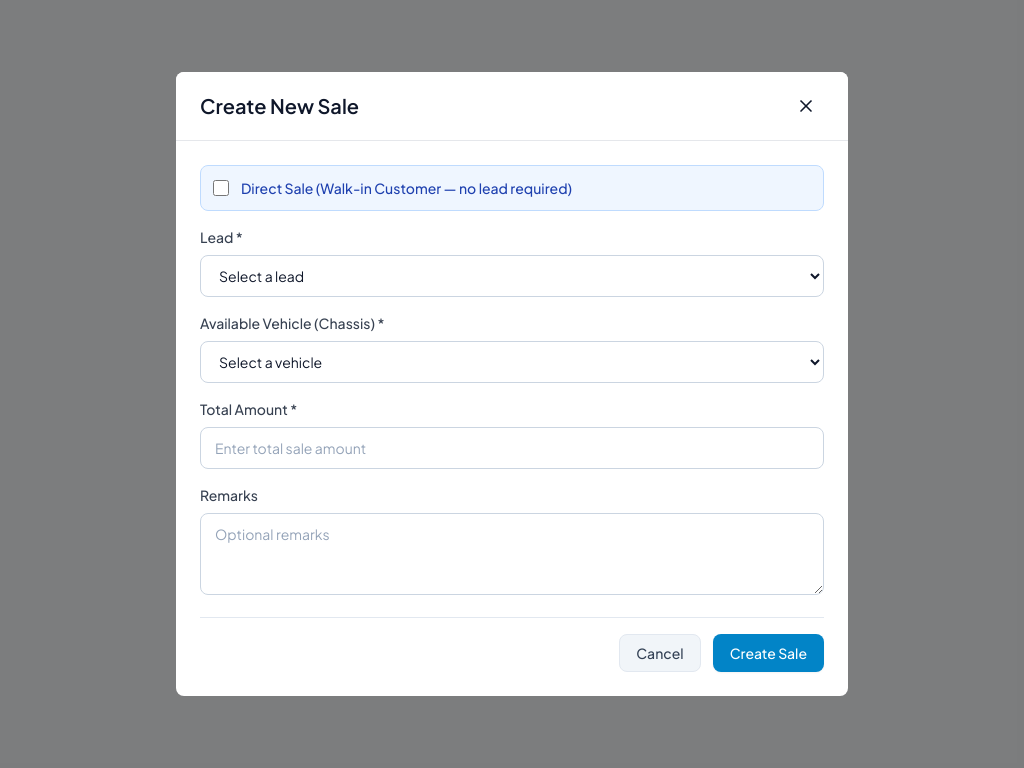
Test: SaleForm › maps total_amount and booking_amount correctly
Check direct sale to avoid needing lead
Click the checkbox labelled "Direct Sale (Walk-in Customer — no lead required)": click(221, 188) [213, 180, 229, 196]
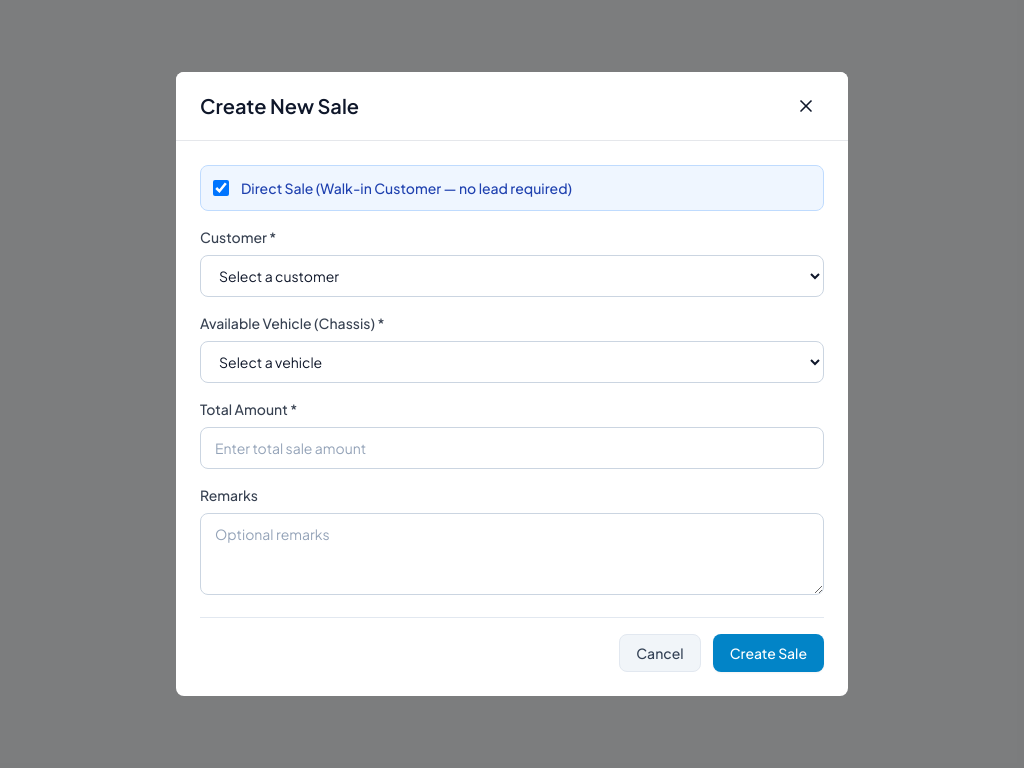
Expected: the heading "Create New Sale" is shown, [200, 92, 359, 120]
Expected: the text "Customer *" is shown, [200, 228, 276, 246]
